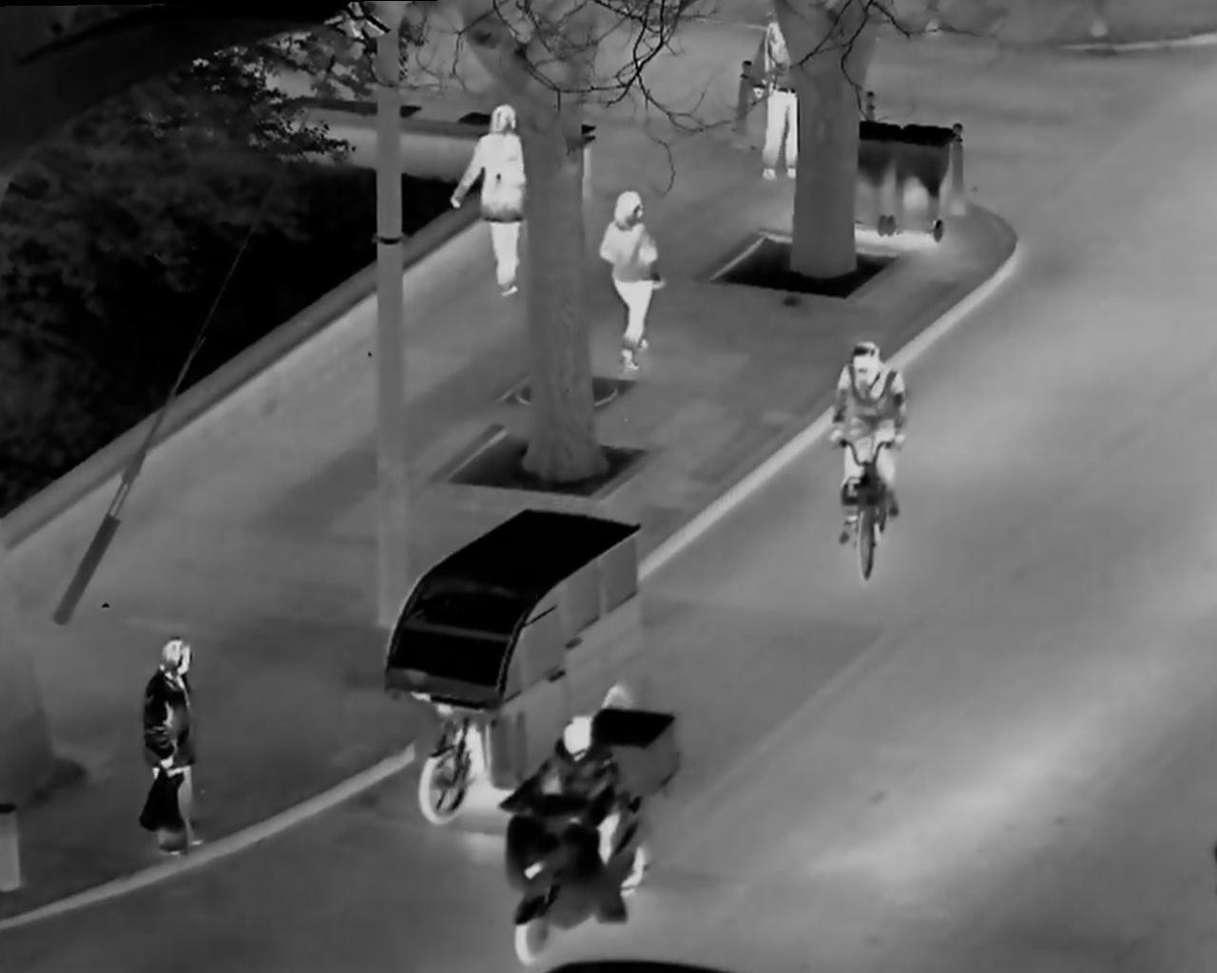person: (807, 319, 918, 590), (513, 709, 636, 937), (124, 620, 228, 881), (440, 86, 549, 309), (592, 172, 678, 373), (744, 12, 819, 174)
